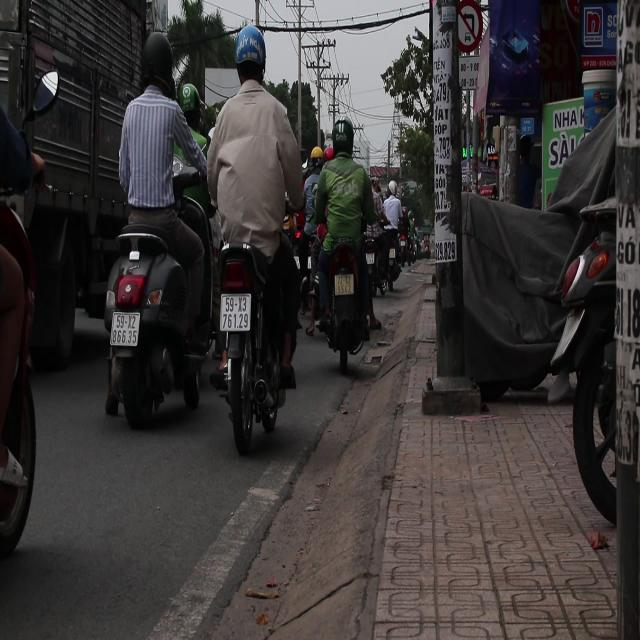motorbike: (100, 231, 200, 425), (215, 234, 290, 451), (310, 222, 376, 374), (368, 222, 398, 298), (398, 218, 418, 270)
